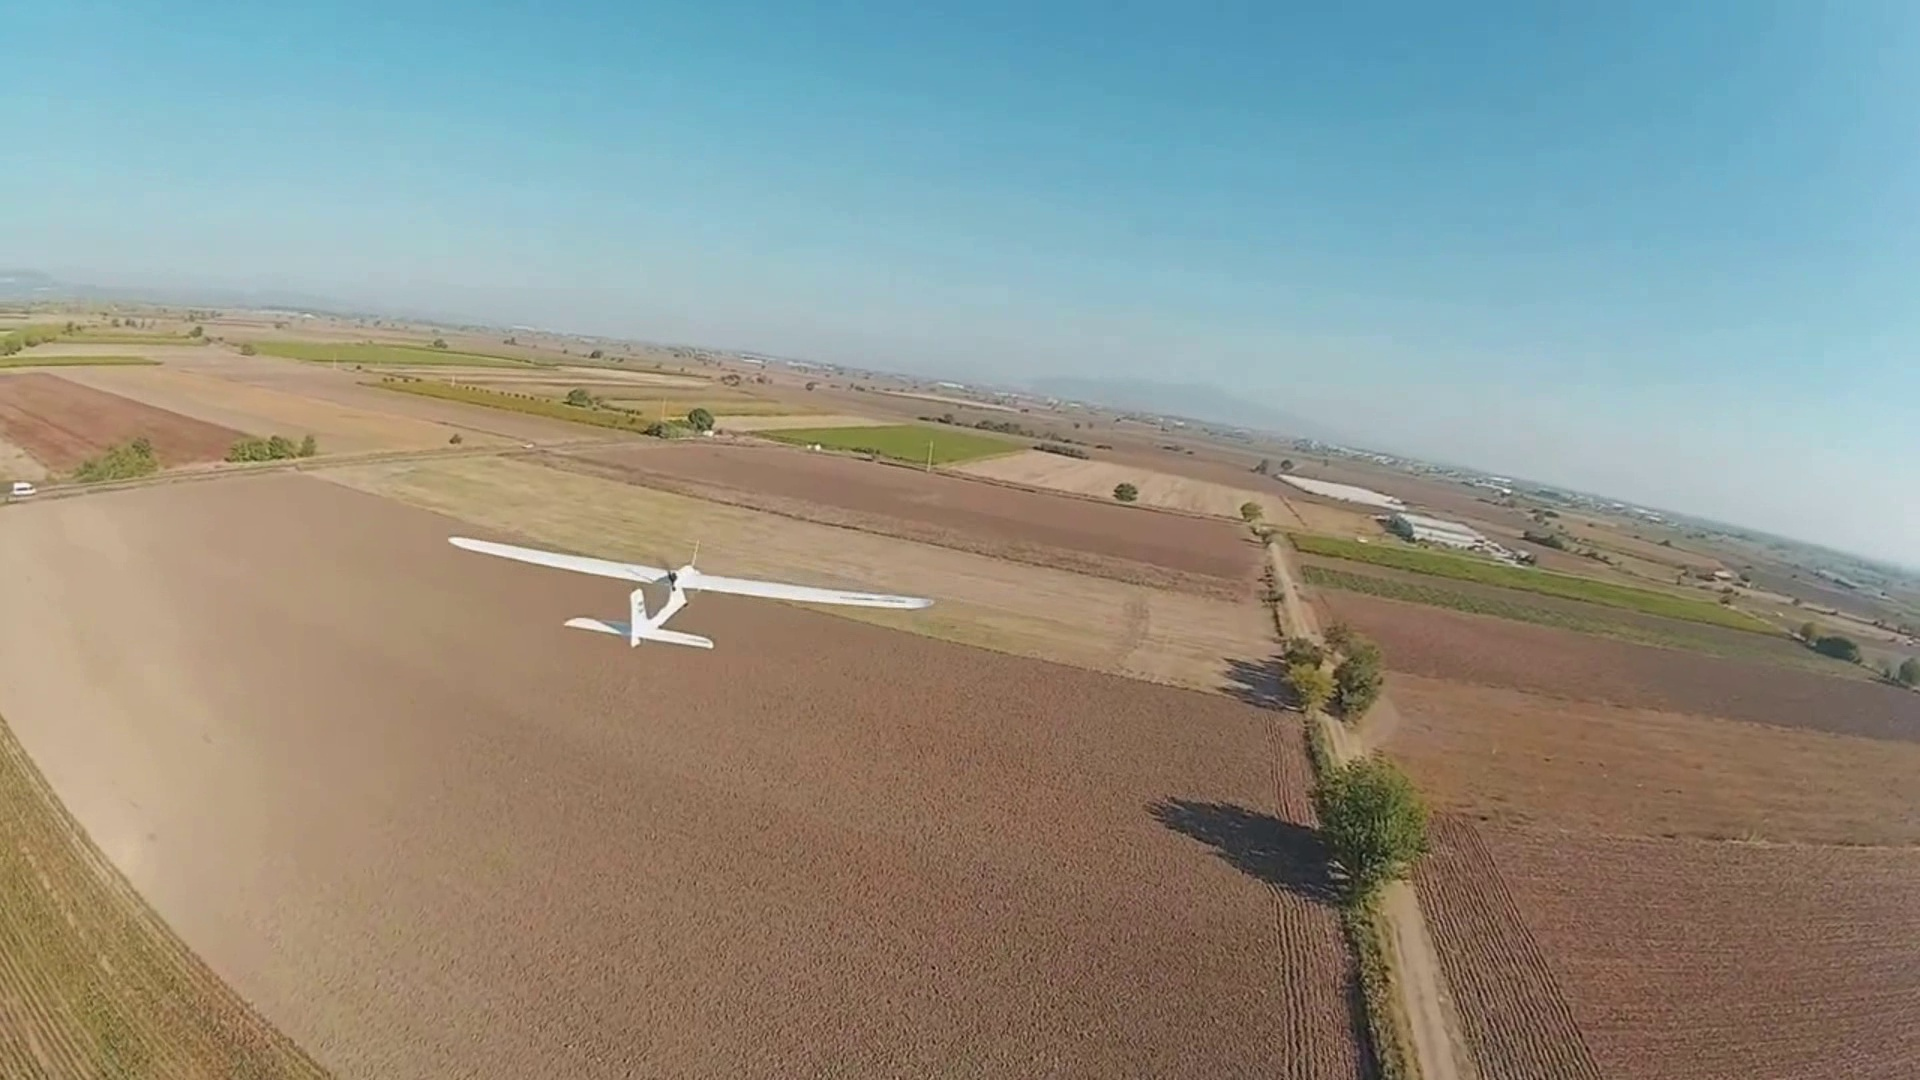airplane: (444, 530, 934, 650), (446, 535, 711, 647)
